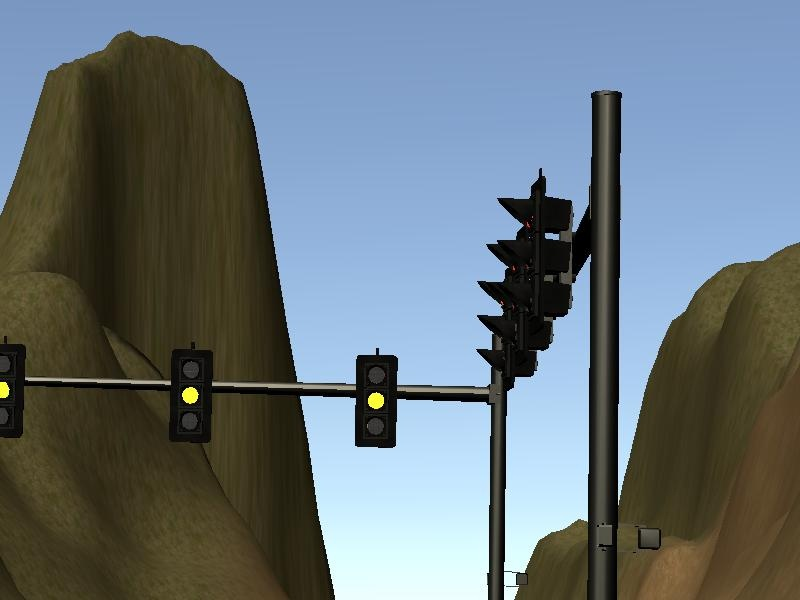yellow: (356, 355, 398, 449), (172, 350, 213, 444), (3, 344, 26, 440)
